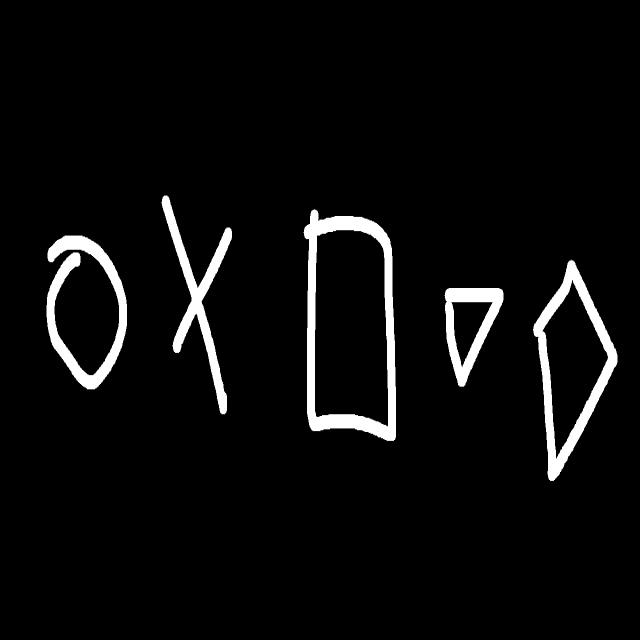Circle: (45, 236, 130, 393)
Cross: (160, 200, 236, 419)
Diamond: (532, 262, 618, 485)
Square: (303, 212, 399, 444)
Triangle: (444, 286, 506, 391)
